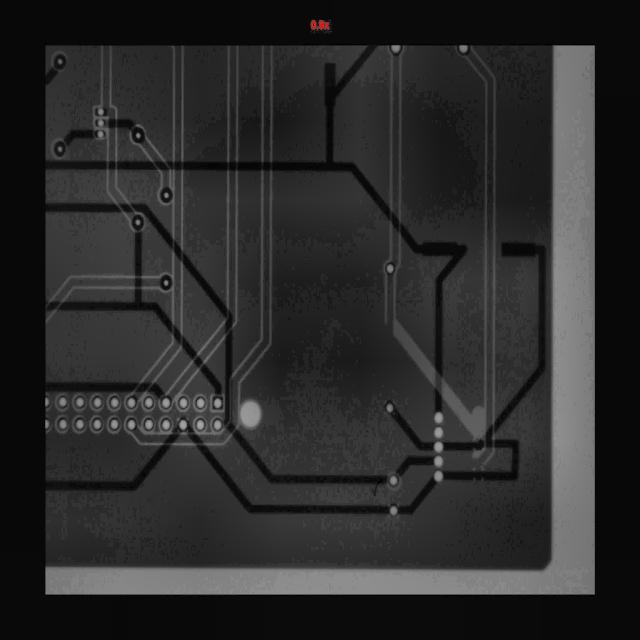Both: (239, 400, 261, 428), (128, 124, 148, 147), (131, 212, 145, 232), (141, 395, 157, 411), (124, 394, 139, 411), (159, 274, 173, 292), (90, 394, 104, 411), (124, 416, 138, 433), (107, 395, 122, 410), (53, 54, 67, 70), (160, 187, 173, 204), (54, 141, 66, 157), (91, 417, 104, 431), (57, 417, 69, 432), (74, 395, 86, 410), (432, 426, 445, 439), (143, 417, 155, 431), (160, 396, 172, 410), (160, 418, 172, 432), (75, 417, 86, 431), (178, 418, 189, 432), (195, 418, 206, 432), (385, 262, 396, 276), (212, 418, 223, 432), (109, 417, 119, 432), (57, 396, 68, 409), (178, 397, 189, 410), (457, 45, 470, 56), (433, 455, 444, 468), (196, 396, 206, 410), (213, 396, 223, 410), (433, 412, 444, 424), (433, 441, 444, 453), (95, 129, 107, 139), (385, 402, 395, 414), (389, 475, 399, 487), (389, 505, 399, 517), (94, 108, 107, 117), (391, 45, 402, 55), (95, 119, 107, 128), (45, 417, 51, 431), (45, 397, 50, 409)
L1: (43, 35, 517, 513), (31, 153, 392, 543), (33, 230, 226, 449), (432, 232, 575, 497), (166, 425, 393, 562), (41, 424, 195, 522), (385, 408, 438, 458), (395, 471, 442, 521), (45, 381, 164, 399), (391, 446, 437, 480), (62, 124, 96, 149), (39, 66, 59, 87), (105, 118, 135, 131), (432, 470, 444, 482)
L2: (111, 42, 373, 477), (164, 45, 242, 403), (131, 45, 191, 404), (464, 46, 497, 466), (33, 248, 163, 326), (85, 43, 138, 224), (130, 137, 182, 195), (390, 55, 402, 265), (384, 275, 398, 325)
